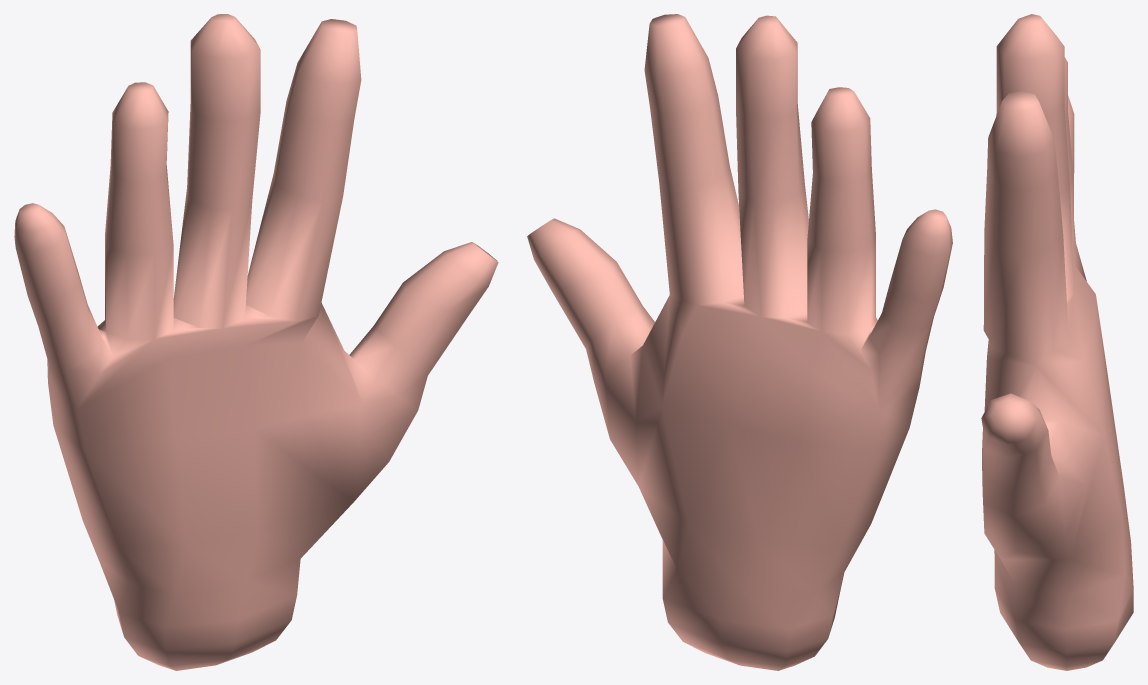
Rendered from ManoHDer.fbx.
3 renders of one model, left to right at view 1: azimuth 30°, elevation 25°; view 2: azimuth 150°, elevation 25°; view 3: azimuth 270°, elevation 25°, orthographic. The views are drawn at different scales.
Parts seen in each view (by area): view 1: Sphere.001; view 2: Sphere.001; view 3: Sphere.001.
Boxes of the visible parts, box(x1,y1,x2,y2) form: Sphere.001: box(14, 14, 498, 670); Sphere.001: box(527, 14, 952, 670); Sphere.001: box(981, 14, 1133, 670).
Bounding box in the file's own units: 113 × 154 × 33.44.
